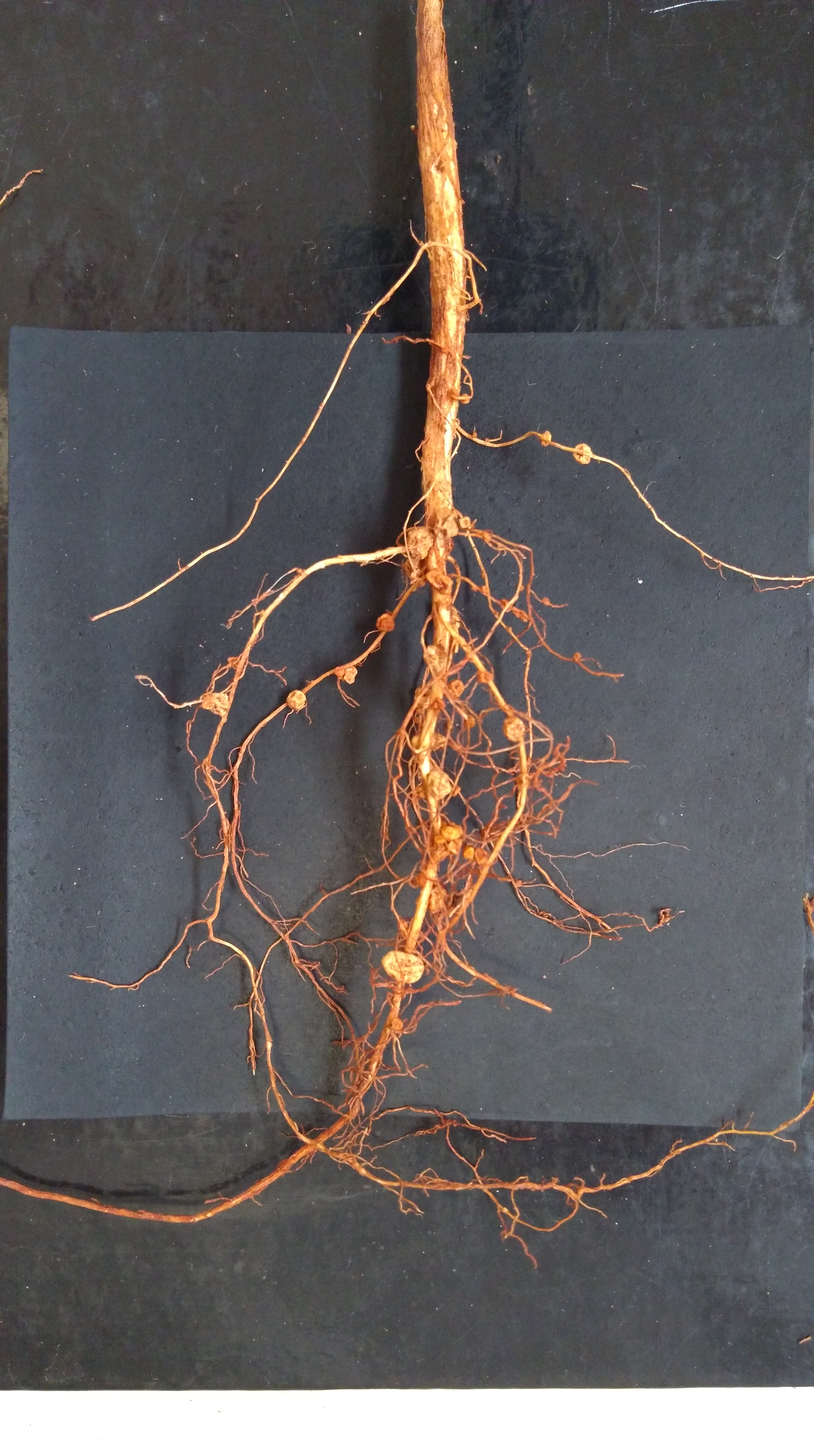nodule: (379, 947, 426, 985), (405, 526, 435, 560), (432, 507, 461, 542), (424, 766, 453, 800), (199, 690, 230, 720), (421, 642, 447, 675), (499, 715, 528, 742), (427, 884, 447, 914), (285, 688, 307, 713), (413, 684, 434, 710), (572, 442, 593, 466), (434, 573, 454, 598), (440, 823, 464, 842), (374, 612, 395, 633), (448, 676, 466, 697), (429, 731, 446, 752), (343, 666, 359, 684), (389, 1017, 405, 1035), (473, 846, 488, 865), (539, 427, 552, 448), (512, 607, 528, 623), (475, 669, 494, 682), (431, 696, 446, 711), (462, 845, 476, 861), (414, 872, 427, 888), (458, 515, 472, 529), (499, 598, 512, 612), (464, 713, 475, 729), (410, 734, 422, 748), (433, 834, 448, 845), (397, 917, 408, 932), (459, 393, 471, 403), (541, 596, 551, 607)
